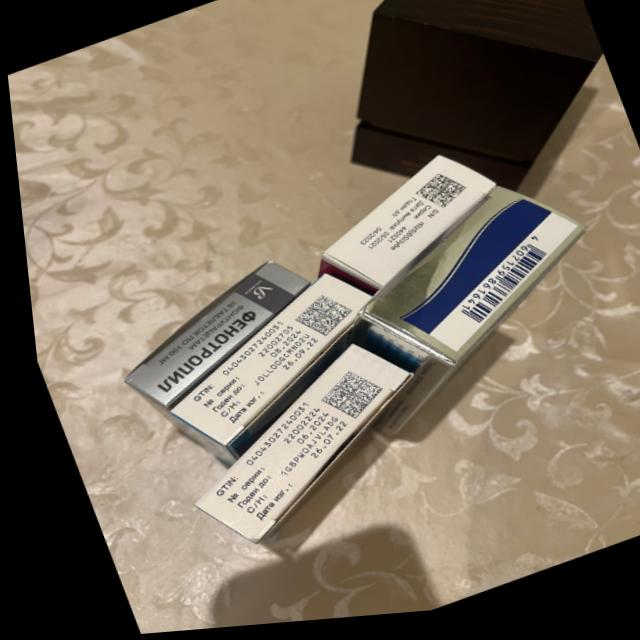datamatrix: (305, 368, 382, 433), (281, 292, 352, 350), (406, 174, 467, 224)
